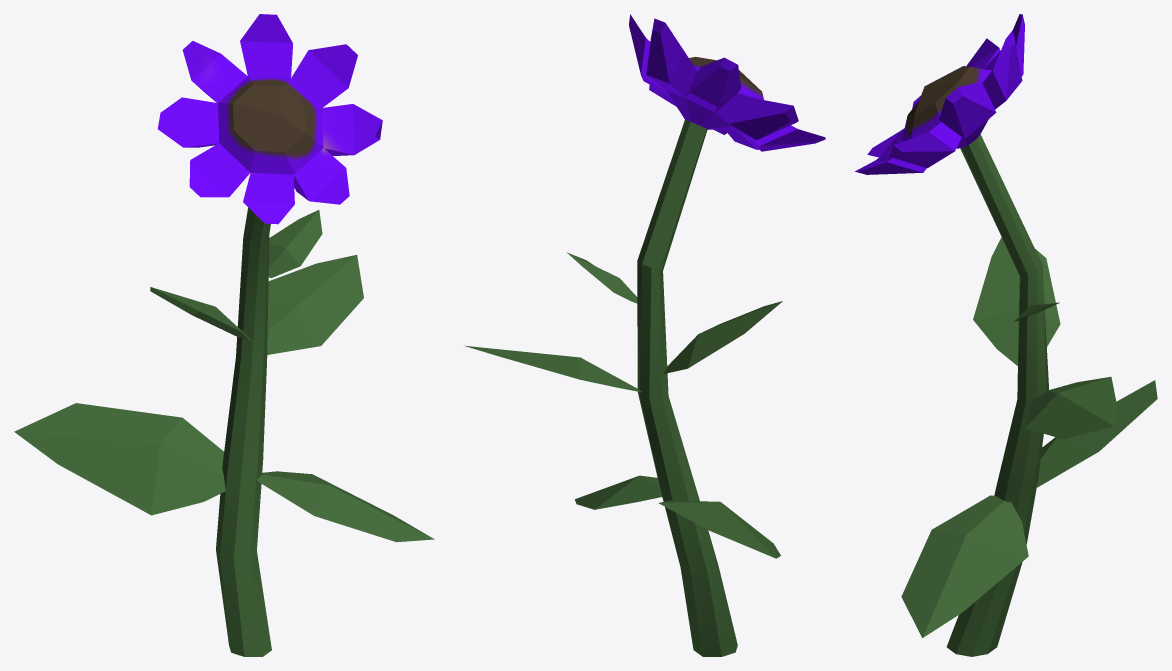
The model's file is SunFlowerHighlighted.glb.
3 views of the same model, side by side, from view 1: azimuth 30°, elevation 25°; view 2: azimuth 150°, elevation 25°; view 3: azimuth 270°, elevation 25° (orthographic). The views are drawn at different scales.
Parts seen in each view (by area): view 1: Sunflower1_P_FarmAssets_0; view 2: Sunflower1_P_FarmAssets_0; view 3: Sunflower1_P_FarmAssets_0.
Boxes of the visible parts, x1,y1,x2,y2 form: Sunflower1_P_FarmAssets_0: [14, 14, 434, 656]; Sunflower1_P_FarmAssets_0: [464, 14, 825, 656]; Sunflower1_P_FarmAssets_0: [855, 14, 1157, 656].
Bounding box in the file's own units: 38.74 × 70.15 × 30.54.
1 material, 1 textured.
